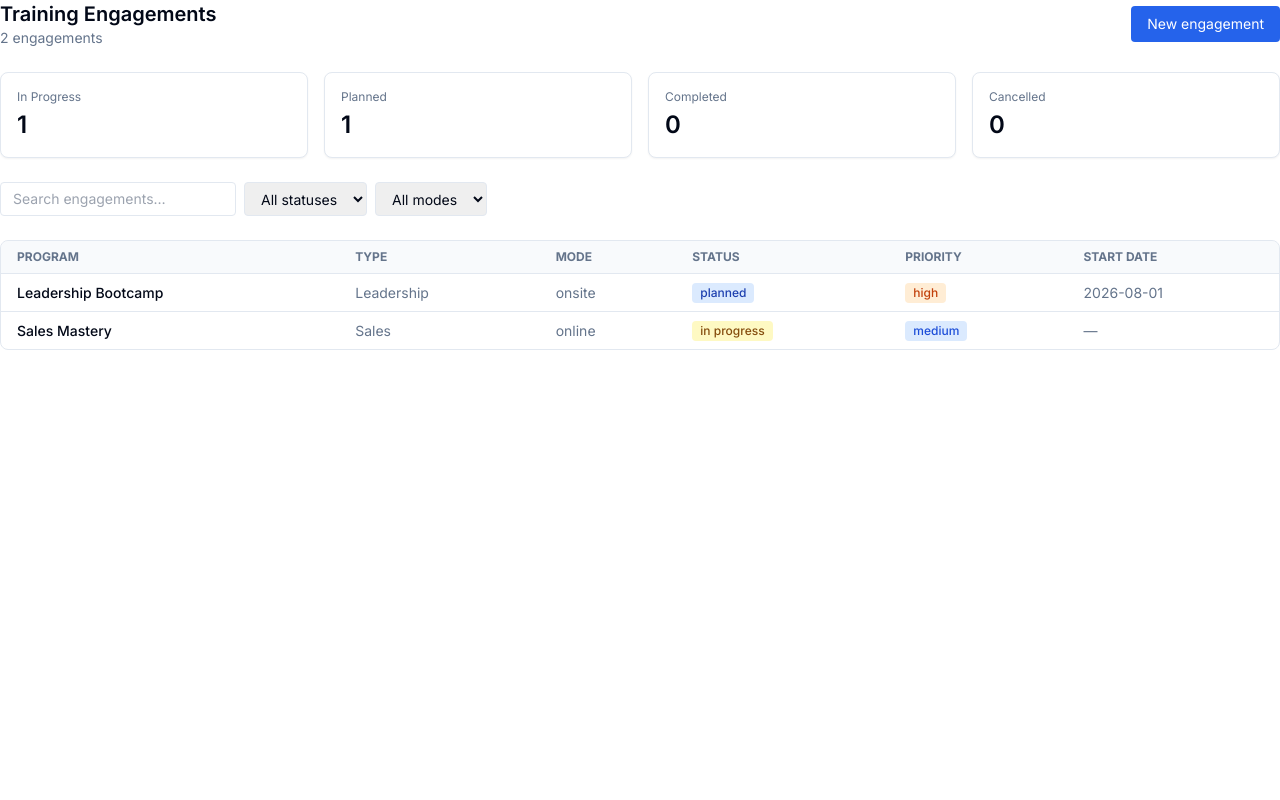
Test case: TrainingCenter — add engagement button › submit button enables when required fields filled
Click the button with test id "add-engagement-btn" at (1206, 24), box [1131,6,1279,42]
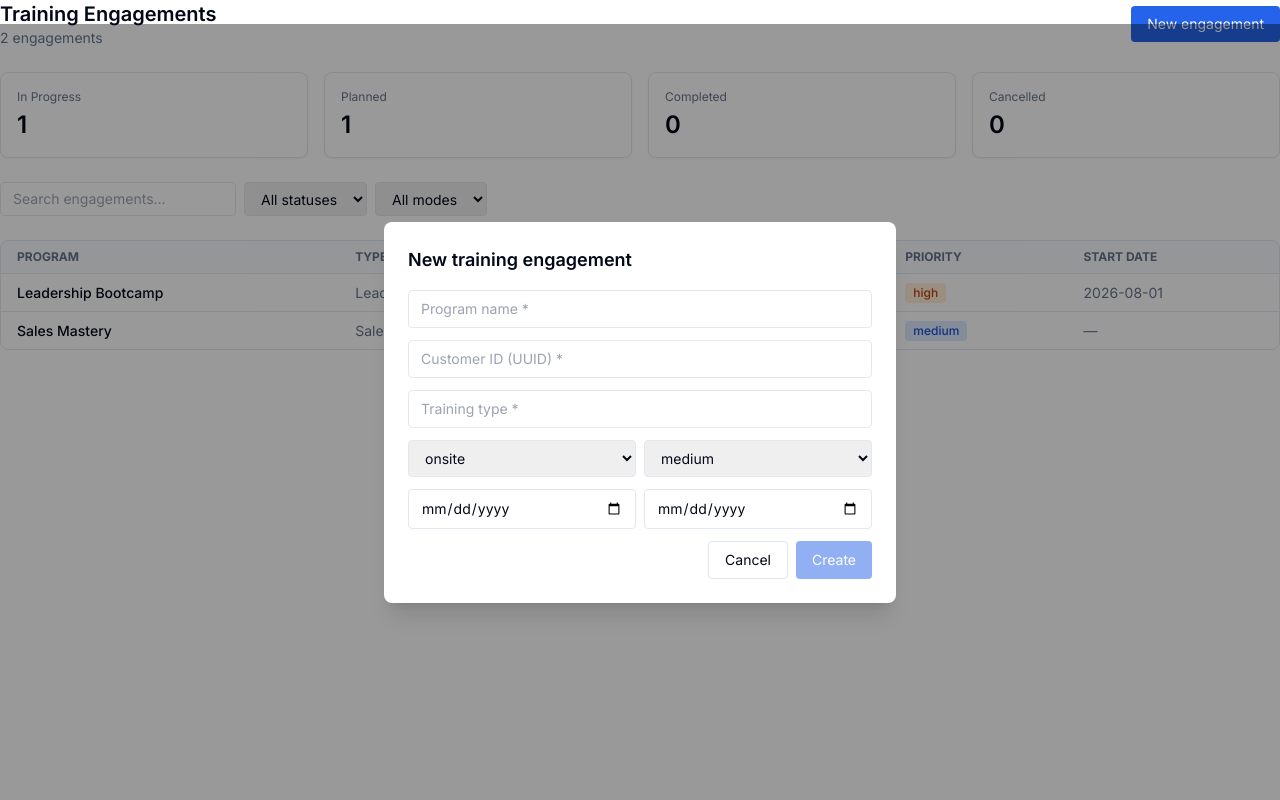
Type "Test" into the field with test id "create-program-name" at (640, 308), box [408,290,872,328]
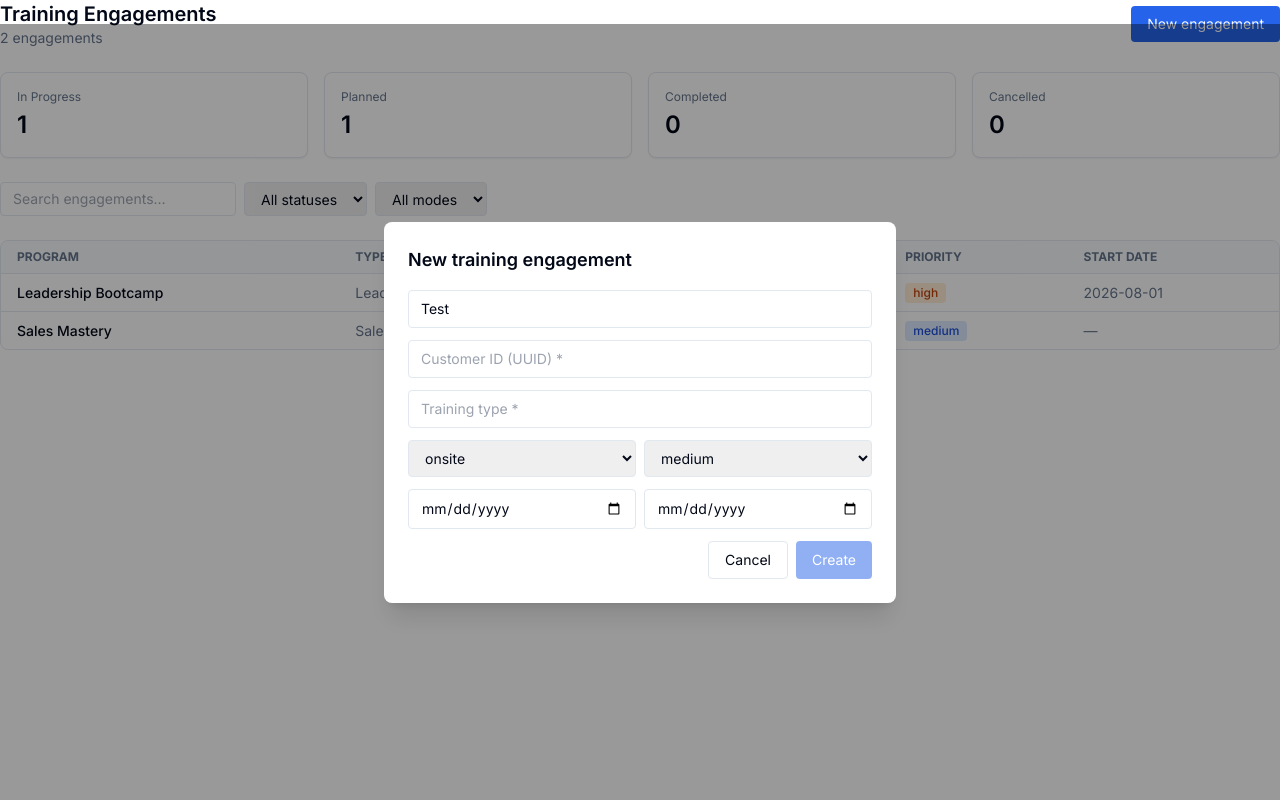
Type "cid-x" into the field with test id "create-customer-id" at (640, 358), box [408,340,872,378]
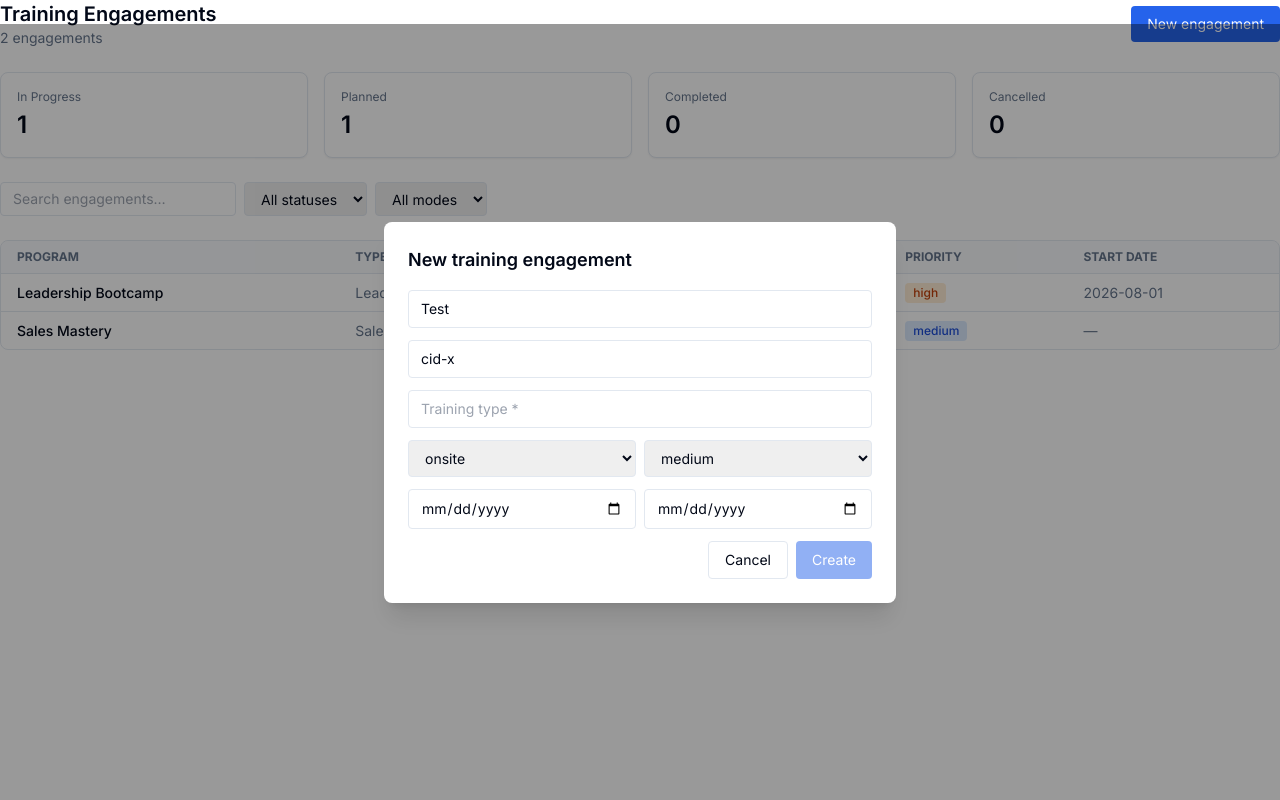
Type "Sales" into the field with test id "create-training-type" at (640, 408), box [408,390,872,428]
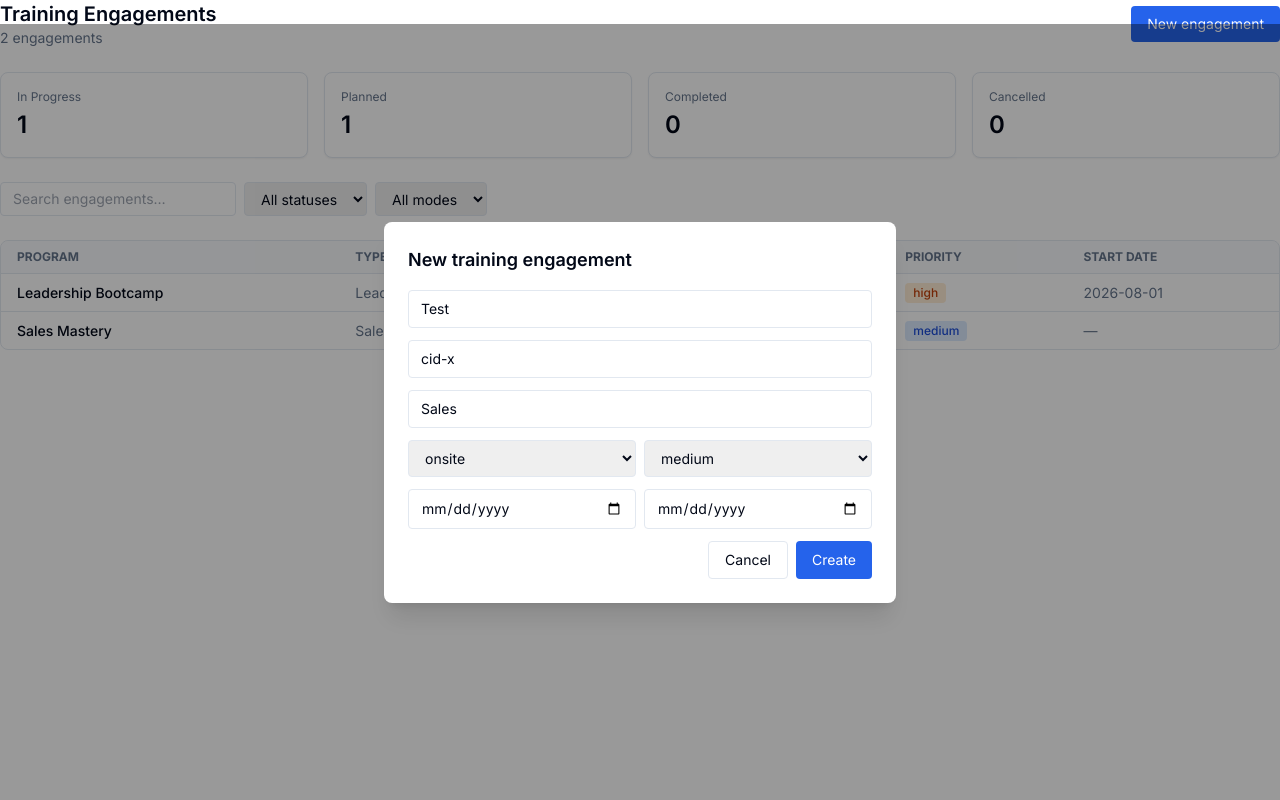
Check: the button with test id "create-submit" is enabled, box [796,540,872,578]
